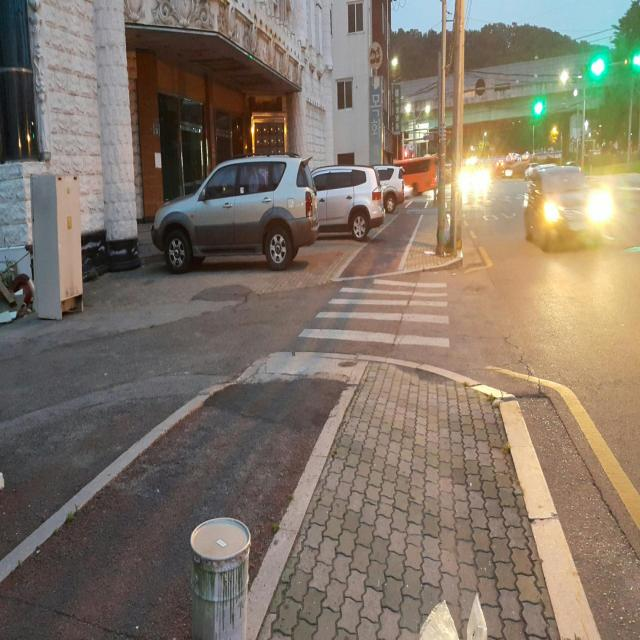횡단보도: (297, 276, 451, 349)
